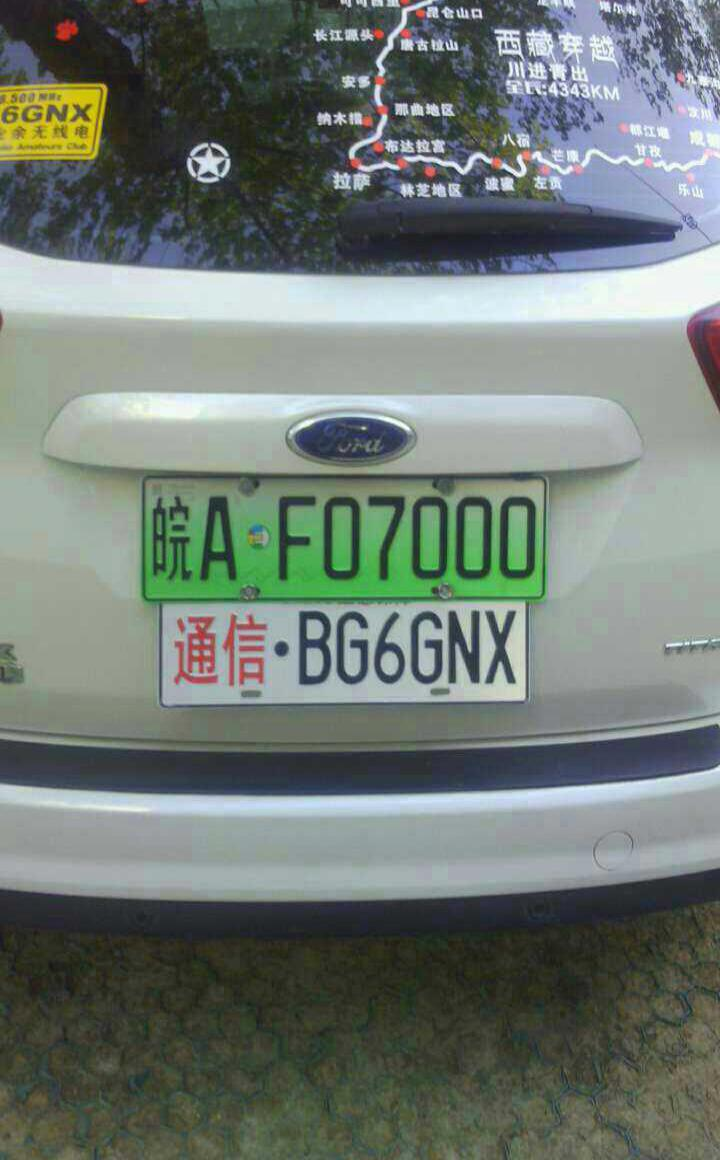car_green: (139, 475, 558, 600)
